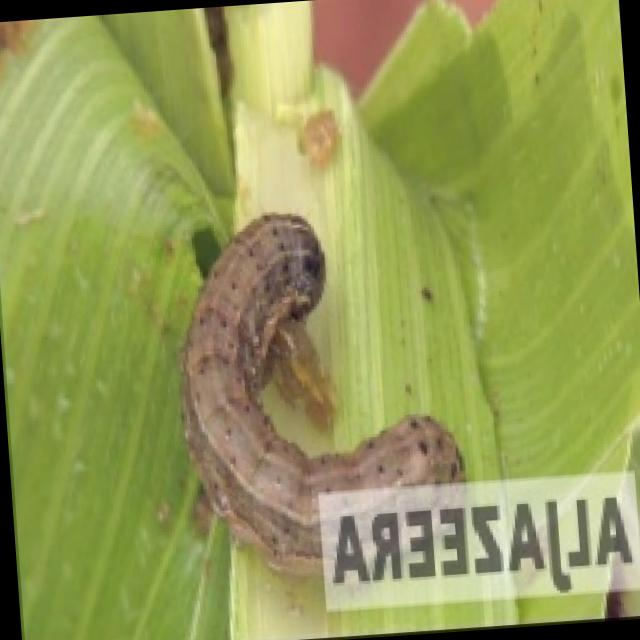armyworm: (161, 186, 482, 597)
